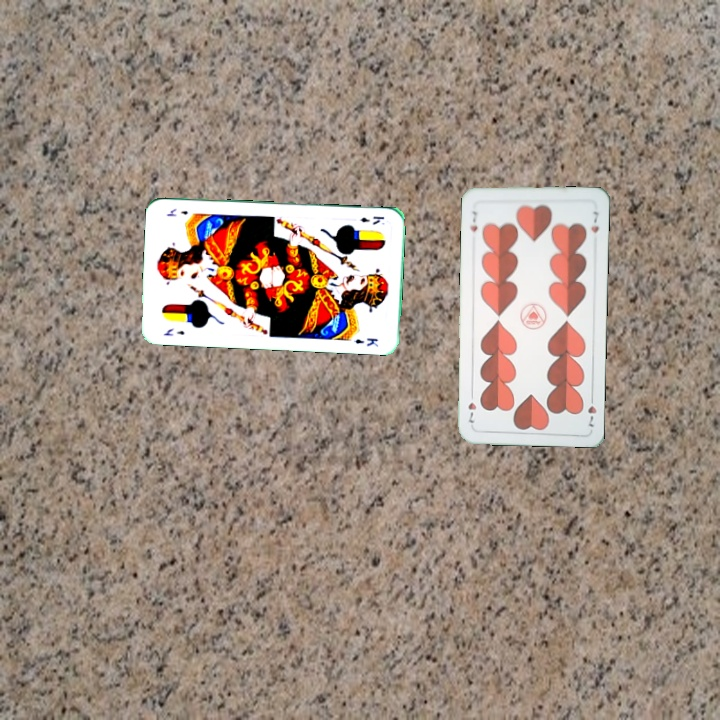EK: (356, 212, 387, 227), (159, 324, 187, 338)
H7: (584, 390, 599, 430), (466, 207, 480, 234)
